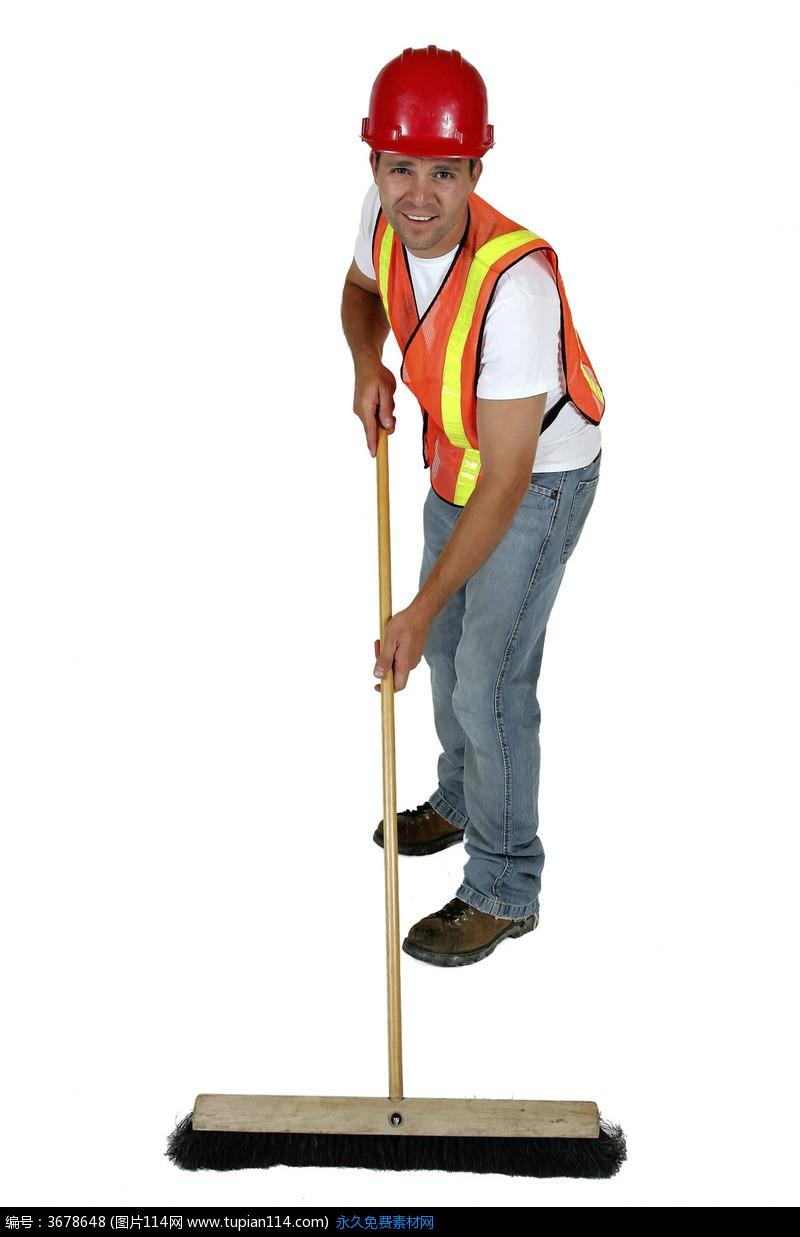helmet: (358, 44, 497, 161)
